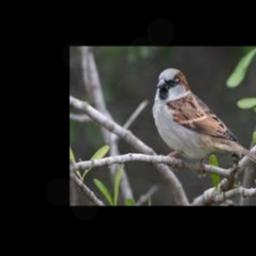Sparrow: (151, 67, 256, 166)
